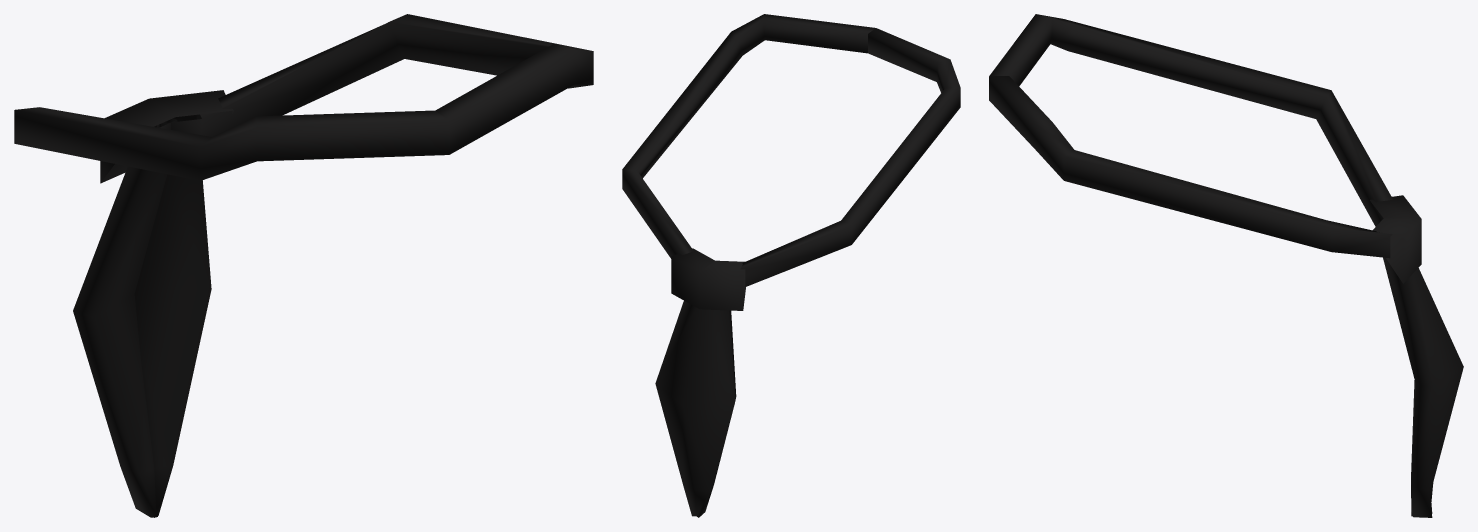
The model's file is Tie.gltf.
3 renders of one model, left to right at view 1: azimuth 30°, elevation 25°; view 2: azimuth 150°, elevation 25°; view 3: azimuth 270°, elevation 25°, orthographic. The views are drawn at different scales.
Parts seen in each view (by area): view 1: TIE; view 2: TIE; view 3: TIE.
Boxes of the visible parts, box(x1,y1,x2,y2) form: TIE: box(14, 14, 593, 517); TIE: box(622, 14, 960, 517); TIE: box(989, 14, 1463, 517).
Bounding box in the file's own units: 0.2806 × 0.4237 × 0.409.
Materials: 1 (1 with a texture image).
